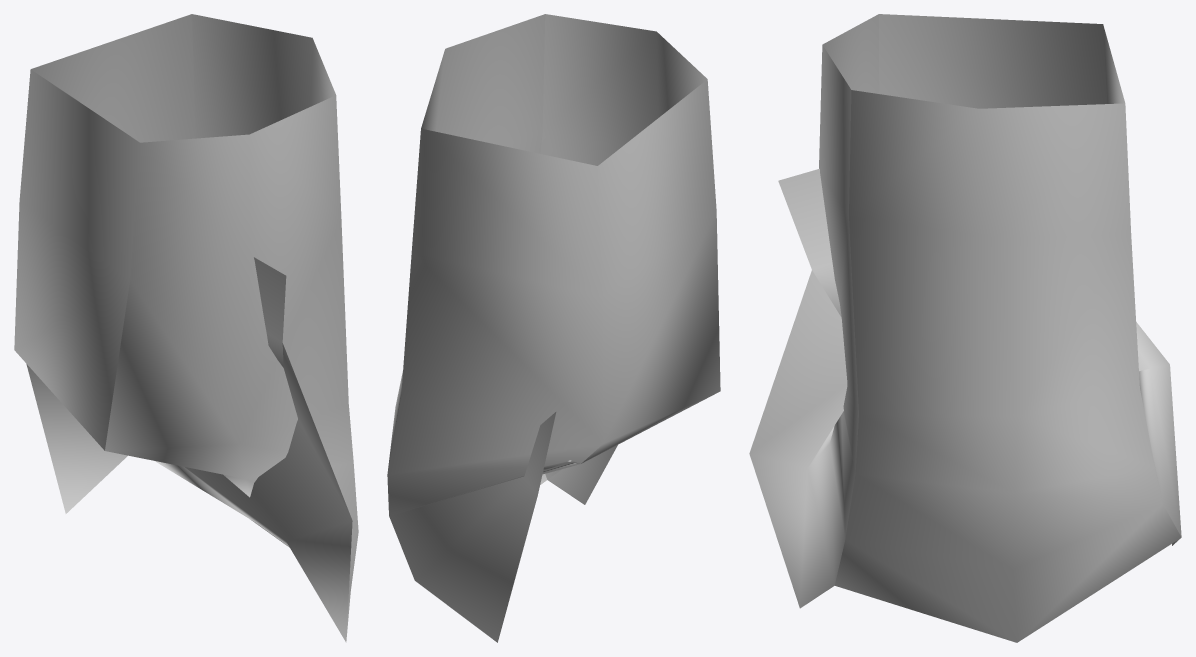
Rendered from right_arm.glb.
3 renders of one model, left to right at view 1: azimuth 30°, elevation 25°; view 2: azimuth 150°, elevation 25°; view 3: azimuth 270°, elevation 25°, orthographic. The views are drawn at different scales.
Visible parts, largest first — view 1: polo-white_RIGHT_ARM; view 2: polo-white_RIGHT_ARM; view 3: polo-white_RIGHT_ARM.
Boxes of the visible parts, x1=… form: polo-white_RIGHT_ARM: x1=14, y1=14, x2=358, y2=642; polo-white_RIGHT_ARM: x1=387, y1=14, x2=720, y2=642; polo-white_RIGHT_ARM: x1=749, y1=14, x2=1181, y2=642.
Bounding box in the file's own units: 0.1394 × 0.252 × 0.1856.
Materials: 1 (1 with a texture image).
